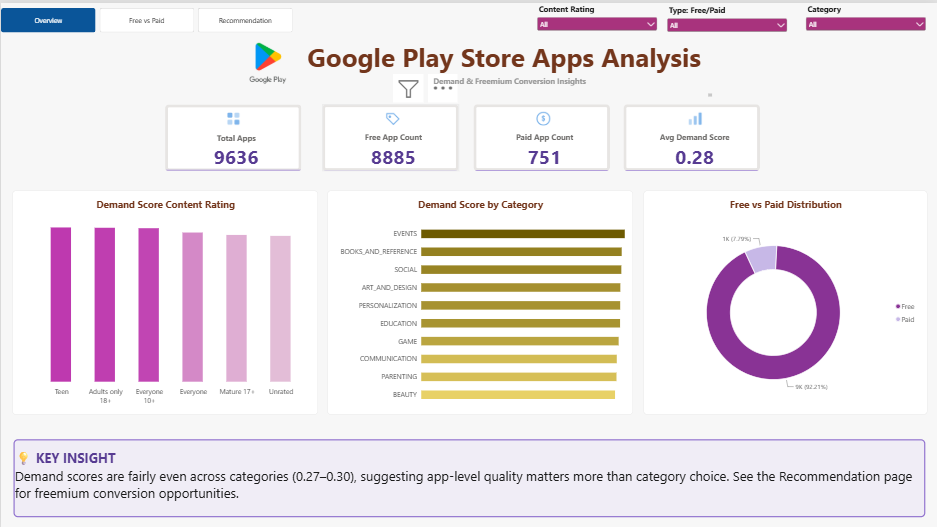

This screenshot's page, from the dashboard's own definition file:
{"tool":"powerbi","page":{"name":"Overview","canvas":[1920,1080],"ordinal":0},"visuals":[{"type":"cardVisual","fields":{"Data":["apps_with_demand_score.Free App Count"]},"box":[658,207.5,280,137.5],"z":0},{"type":"cardVisual","fields":{"Data":["apps_with_demand_score.Paid App Count"]},"box":[970.5,207.5,280,137.5],"z":1000},{"type":"cardVisual","fields":{"Data":["apps_with_demand_score.Avg Demand Score"]},"box":[1278,207.5,280,137.5],"z":2000},{"type":"cardVisual","fields":{"Data":["apps_with_demand_score.Total Apps"]},"box":[335.5,207.5,280,137.5],"z":3000},{"type":"clusteredBarChart","title":"Demand Score by Category","fields":{"Category":["apps_with_demand_score.Category"],"Y":["apps_with_demand_score.Avg Demand Score"]},"box":[670,385,627.5,460],"z":4000},{"type":"textbox","title":"Google Play Store Apps Analysis","box":[627.5,75,830,118],"z":5000},{"type":"image","box":[482.5,75,130,98],"z":6000},{"type":"slicer","fields":{"Values":["apps_with_demand_score.Category"]},"box":[1645,0,256,68],"z":7000},{"type":"slicer","fields":{"Values":["apps_with_demand_score.Type"]},"box":[1362.5,2.5,256,68],"z":8000},{"type":"slicer","fields":{"Values":["apps_with_demand_score.Content_Rating"]},"box":[1095,0,256,68],"z":9000},{"type":"donutChart","title":"Free vs Paid Distribution","fields":{"Category":["apps_with_demand_score.Type"],"Y":["apps_with_demand_score.Total Apps"]},"box":[1317.5,385,582,460],"z":10000},{"type":"columnChart","title":"Demand Score Content Rating","fields":{"Category":["apps_with_demand_score.Content_Rating"],"Y":["apps_with_demand_score.Avg Demand Score"]},"box":[22.5,385,627.5,460],"z":11000},{"type":"textbox","box":[25,895,1870,160],"z":12000},{"type":"pageNavigator","box":[0,10,600,50],"z":13000}]}

Visuals, with their boxes in screenshot pixels (x1, y1, x2, y2), scaled from the page's 1920x1080 canvas onto the 937x527 screenshot:
cardVisual - apps_with_demand_score.Free App Count: <box>321,101,458,168</box>
cardVisual - apps_with_demand_score.Paid App Count: <box>474,101,610,168</box>
cardVisual - apps_with_demand_score.Avg Demand Score: <box>624,101,760,168</box>
cardVisual - apps_with_demand_score.Total Apps: <box>164,101,300,168</box>
"Demand Score by Category" clusteredBarChart: <box>327,188,633,412</box>
"Google Play Store Apps Analysis" textbox: <box>306,37,711,94</box>
image: <box>235,37,299,84</box>
slicer - apps_with_demand_score.Category: <box>803,0,928,33</box>
slicer - apps_with_demand_score.Type: <box>665,1,790,34</box>
slicer - apps_with_demand_score.Content_Rating: <box>534,0,659,33</box>
"Free vs Paid Distribution" donutChart: <box>643,188,927,412</box>
"Demand Score Content Rating" columnChart: <box>11,188,317,412</box>
textbox: <box>12,437,925,515</box>
pageNavigator: <box>0,5,293,29</box>
